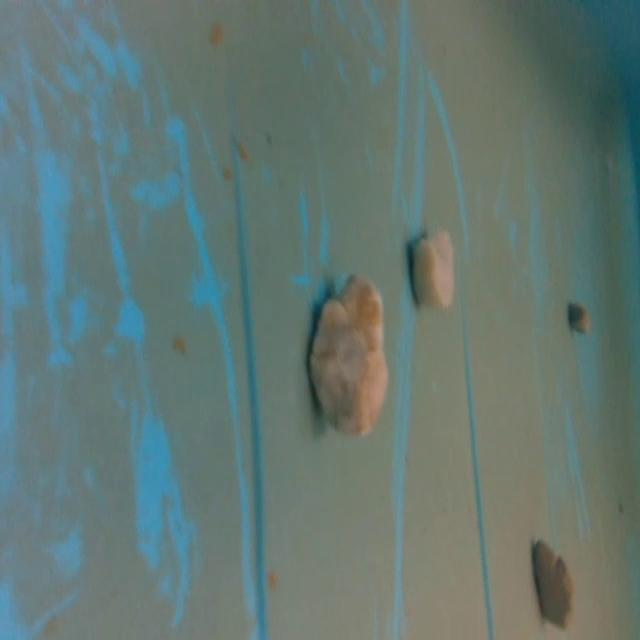rock: (303, 266, 395, 444), (522, 532, 586, 634), (405, 216, 464, 316), (567, 295, 595, 346)
